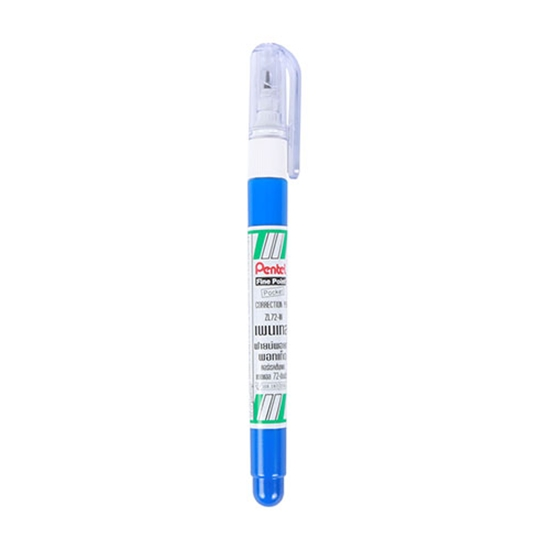Correction_fluid: (234, 32, 305, 515)
